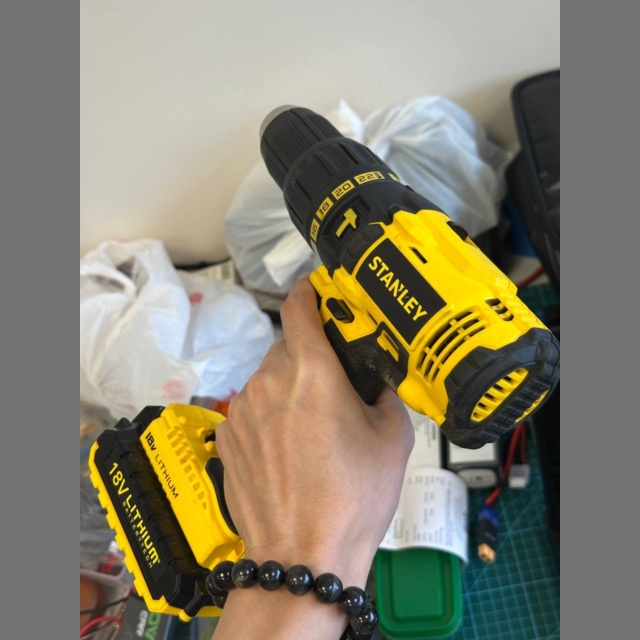drill: (94, 106, 558, 621)
